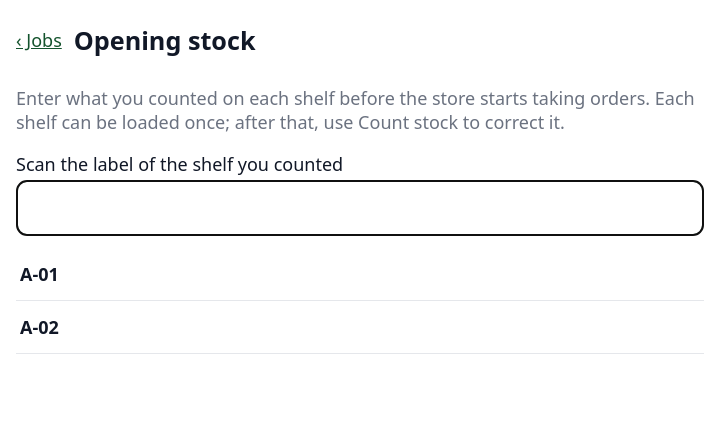
it: opening stock screen › asks before leaving a shelf with items entered
The width and height of the screenshot is (721, 443).
Click the button "A-01": (39, 274) top-left (16, 248), bottom-right (704, 301)
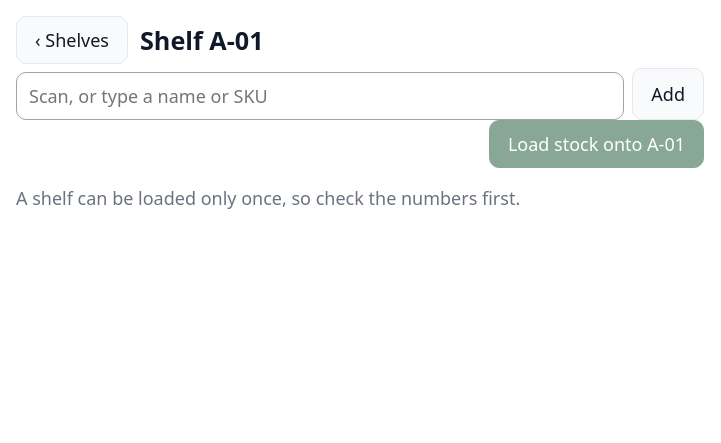
In the field named "Add an item": (320, 96) top-left (16, 72), bottom-right (624, 120), type "8902"
Then press Enter
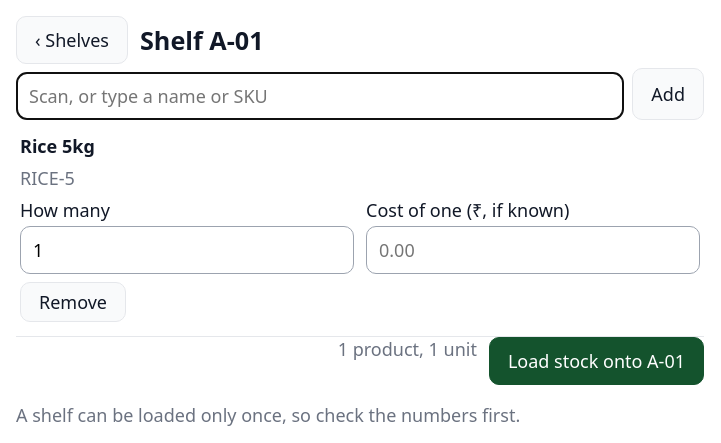
Click the button "‹ Shelves": (72, 40) top-left (16, 16), bottom-right (128, 64)
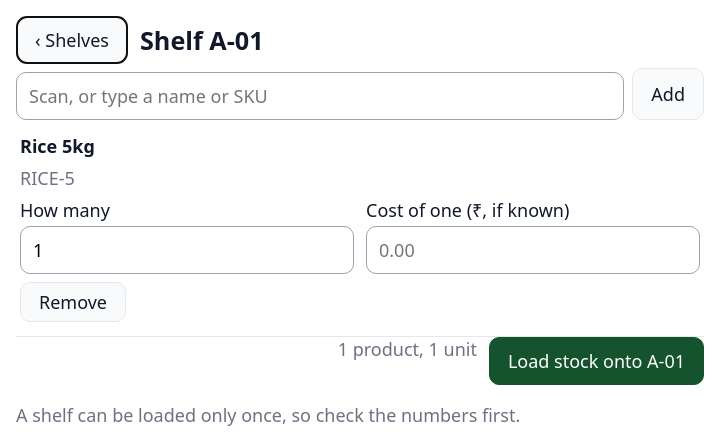
Expected: the heading "Shelf A-01" is shown, top-left (140, 23), bottom-right (264, 57)
Click the button "‹ Shelves": (72, 40) top-left (16, 16), bottom-right (128, 64)
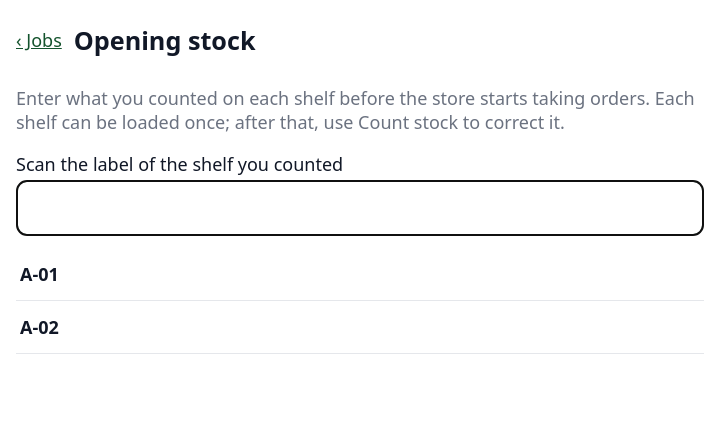
Expected: the list named "Shelves" is shown, top-left (16, 248), bottom-right (704, 354)
